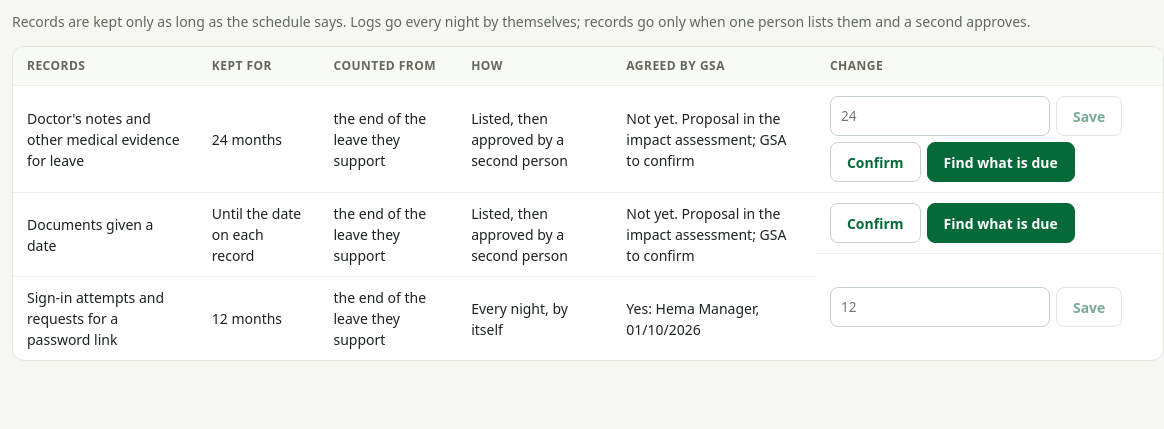
it: the retention schedule › shows each rule, whether GSA has agreed it, and changes and confirms a period
Expected: the 2nd row shows "24 months", [212, 130, 282, 148]
Expected: the 2nd row shows "Not yet. Proposal in the impact assessment; GSA to confirm", [626, 108, 786, 170]
Type "36" into the number field with placeholder "24" at (940, 116), box [830, 96, 1050, 136]
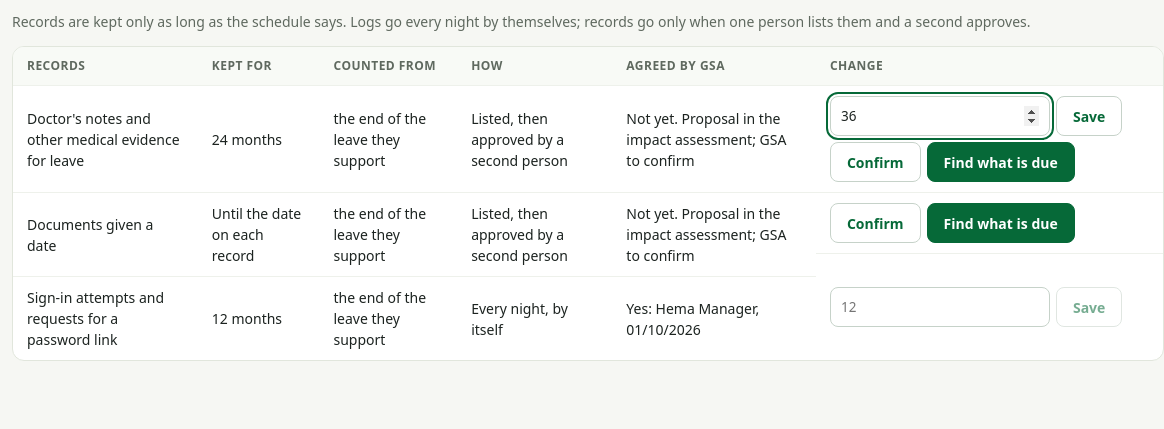
Click the button "Save" in the row of "24 months" at (1089, 116), box [1056, 96, 1122, 136]
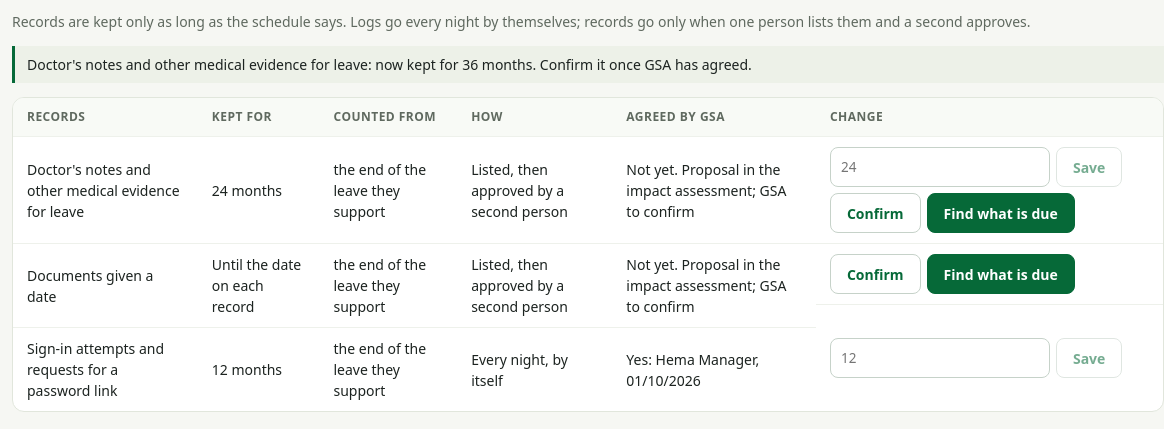
Expected: the message shows "now kept for 36 months", [27, 55, 752, 74]
Click the button "Confirm" in the row of "24 months" at (875, 213), box [830, 193, 920, 233]
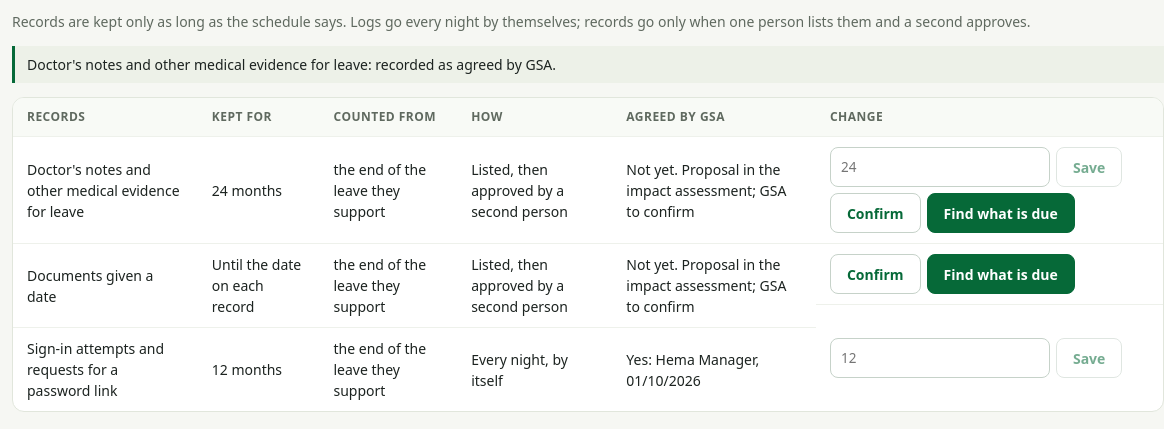
Expected: the message shows "recorded as agreed by GSA", [27, 55, 556, 74]
